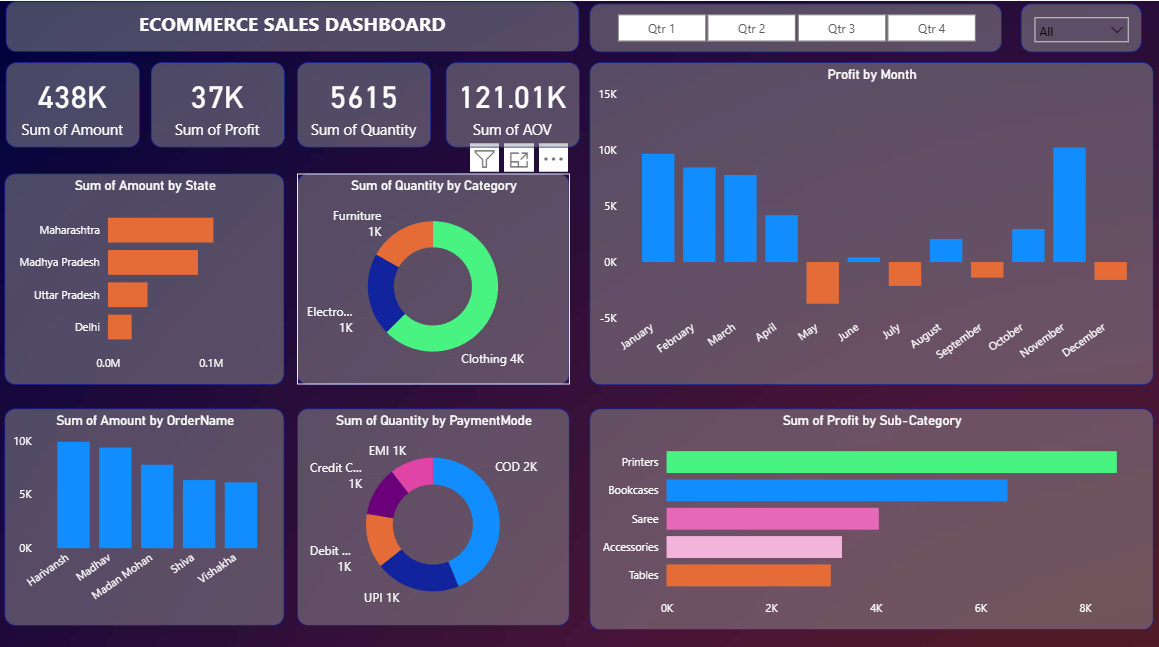

This screenshot's page, from the dashboard's own definition file:
{"tool":"powerbi","page":{"name":"Page 1","canvas":[1280,720],"ordinal":0},"visuals":[{"type":"textbox","box":[9.6,0,629.8,56.3],"z":0},{"type":"columnChart","title":"Profit by Month","fields":{"Y":["Details.Profit"],"Category":["Orders.Order Date.Variation.Date Hierarchy.Month"]},"box":[650.4,67.2,618.9,354],"z":1000},{"type":"barChart","fields":{"Category":["Details.Sub-Category"],"Y":["Details.Profit"]},"box":[650.4,447.3,618.9,242.9],"z":2000},{"type":"donutChart","fields":{"Category":["Details.Category"],"Y":["Details.Quantity"]},"box":[329.3,189.4,299.1,231.9],"z":3000},{"type":"donutChart","fields":{"Y":["Details.Quantity"],"Category":["Details.PaymentMode"]},"box":[329.3,447.3,299.1,238.8],"z":4000},{"type":"card","fields":{"Values":["Details.Amount"]},"box":[9.6,67.2,146.8,93.3],"z":5000},{"type":"card","fields":{"Values":["Details.Profit"]},"box":[168.8,67.2,146.8,93.3],"z":6000},{"type":"card","fields":{"Values":["Details.Quantity"]},"box":[329.3,67.2,146.8,93.3],"z":7000},{"type":"card","fields":{"Values":["Details.AOV"]},"box":[492.6,67.2,146.8,93.3],"z":8000},{"type":"barChart","fields":{"Category":["Orders.State"],"Y":["Details.Amount"]},"box":[8.2,189.4,307.4,231.9],"z":9000},{"type":"columnChart","fields":{"Category":["Orders.OrderName"],"Y":["Details.Amount"]},"box":[8.2,447.3,307.4,238.8],"z":10000},{"type":"slicer","fields":{"Values":["Orders.Order Date.Variation.Date Hierarchy.Quarter"]},"box":[650.4,2.7,452.8,53.5],"z":11000},{"type":"slicer","fields":{"Values":["Orders.State"]},"box":[1123.8,2.7,133.1,53.5],"z":12000}]}

Visuals, with their boxes in screenshot pixels (x1, y1, x2, y2), scaled from the page's 1280x720 canvas onto the 1159x647 screenshot:
textbox: x1=9 y1=0 x2=579 y2=51
"Profit by Month" columnChart: x1=589 y1=60 x2=1149 y2=378
barChart - Details.Sub-Category x Details.Profit: x1=589 y1=402 x2=1149 y2=620
donutChart - Details.Category x Details.Quantity: x1=298 y1=170 x2=569 y2=379
donutChart - Details.Quantity x Details.PaymentMode: x1=298 y1=402 x2=569 y2=617
card - Details.Amount: x1=9 y1=60 x2=142 y2=144
card - Details.Profit: x1=153 y1=60 x2=286 y2=144
card - Details.Quantity: x1=298 y1=60 x2=431 y2=144
card - Details.AOV: x1=446 y1=60 x2=579 y2=144
barChart - Orders.State x Details.Amount: x1=7 y1=170 x2=286 y2=379
columnChart - Orders.OrderName x Details.Amount: x1=7 y1=402 x2=286 y2=617
slicer - Orders.Order Date.Variation.Date Hierarchy.Quarter: x1=589 y1=2 x2=999 y2=51
slicer - Orders.State: x1=1018 y1=2 x2=1138 y2=51
